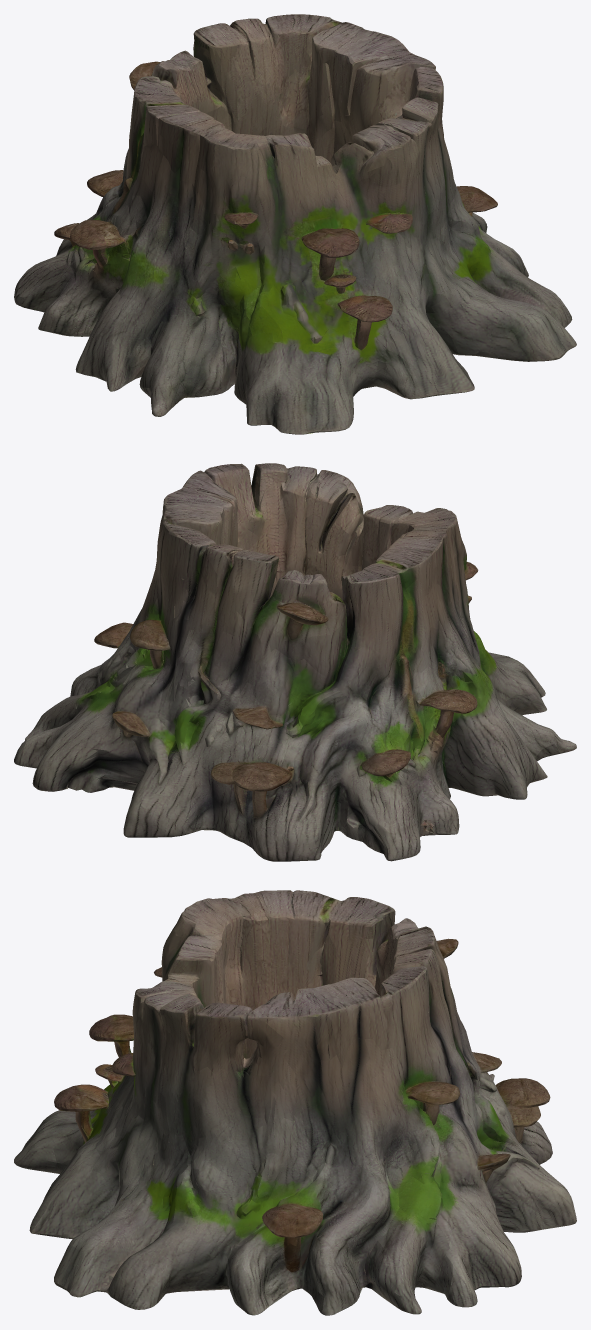
The model's file is forest-stump.glb.
The picture shows the model from 3 angles, top to bottom: view 1: azimuth 30°, elevation 25°; view 2: azimuth 150°, elevation 25°; view 3: azimuth 270°, elevation 25°; orthographic projection. The views are drawn at different scales.
Parts seen in each view (by area): view 1: forest-stump-Mesh_0.011; view 2: forest-stump-Mesh_0.011; view 3: forest-stump-Mesh_0.011.
Part boxes in pixels (x1=…): forest-stump-Mesh_0.011: x1=14, y1=14, x2=576, y2=434; forest-stump-Mesh_0.011: x1=14, y1=463, x2=576, y2=861; forest-stump-Mesh_0.011: x1=14, y1=890, x2=576, y2=1315.
Size of the model in its own units: 2.01 by 1.07 by 2.1.
1 material, 1 textured.
